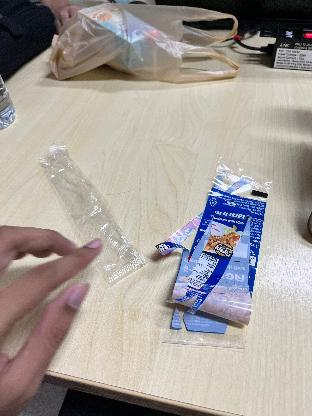Others: (154, 164, 280, 350), (29, 150, 150, 284)
